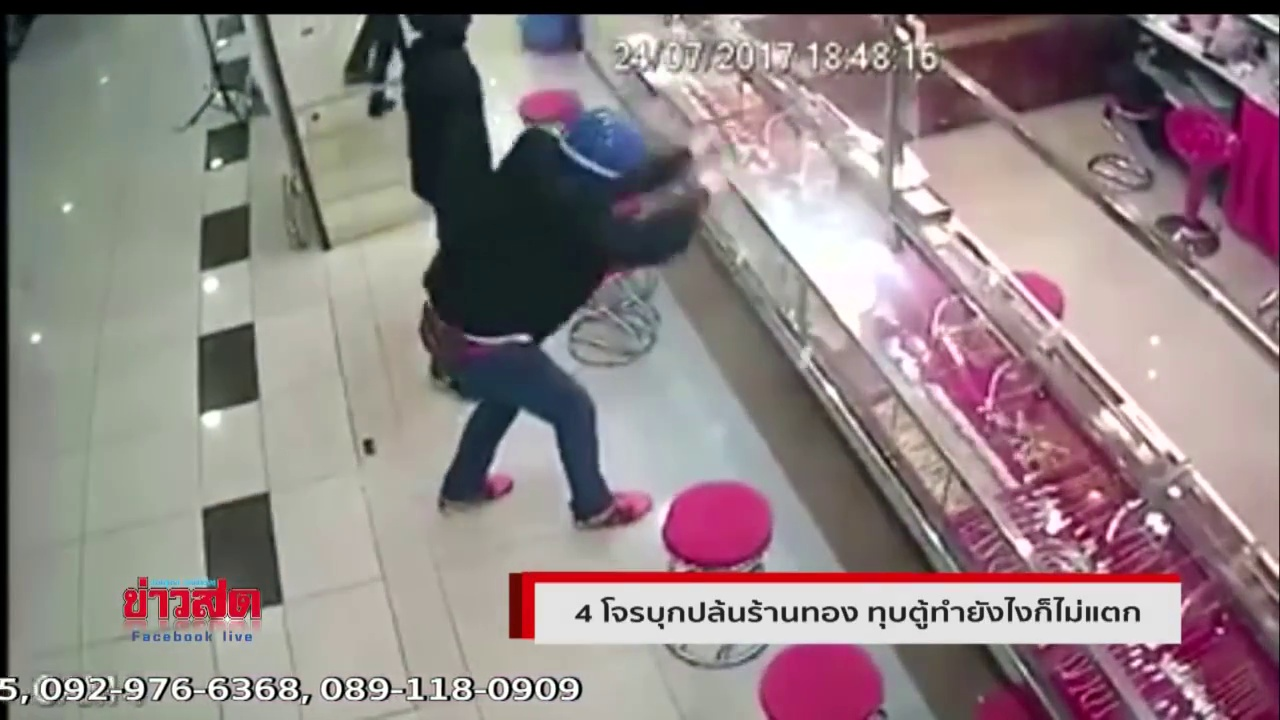helmet: (554, 97, 650, 177)
